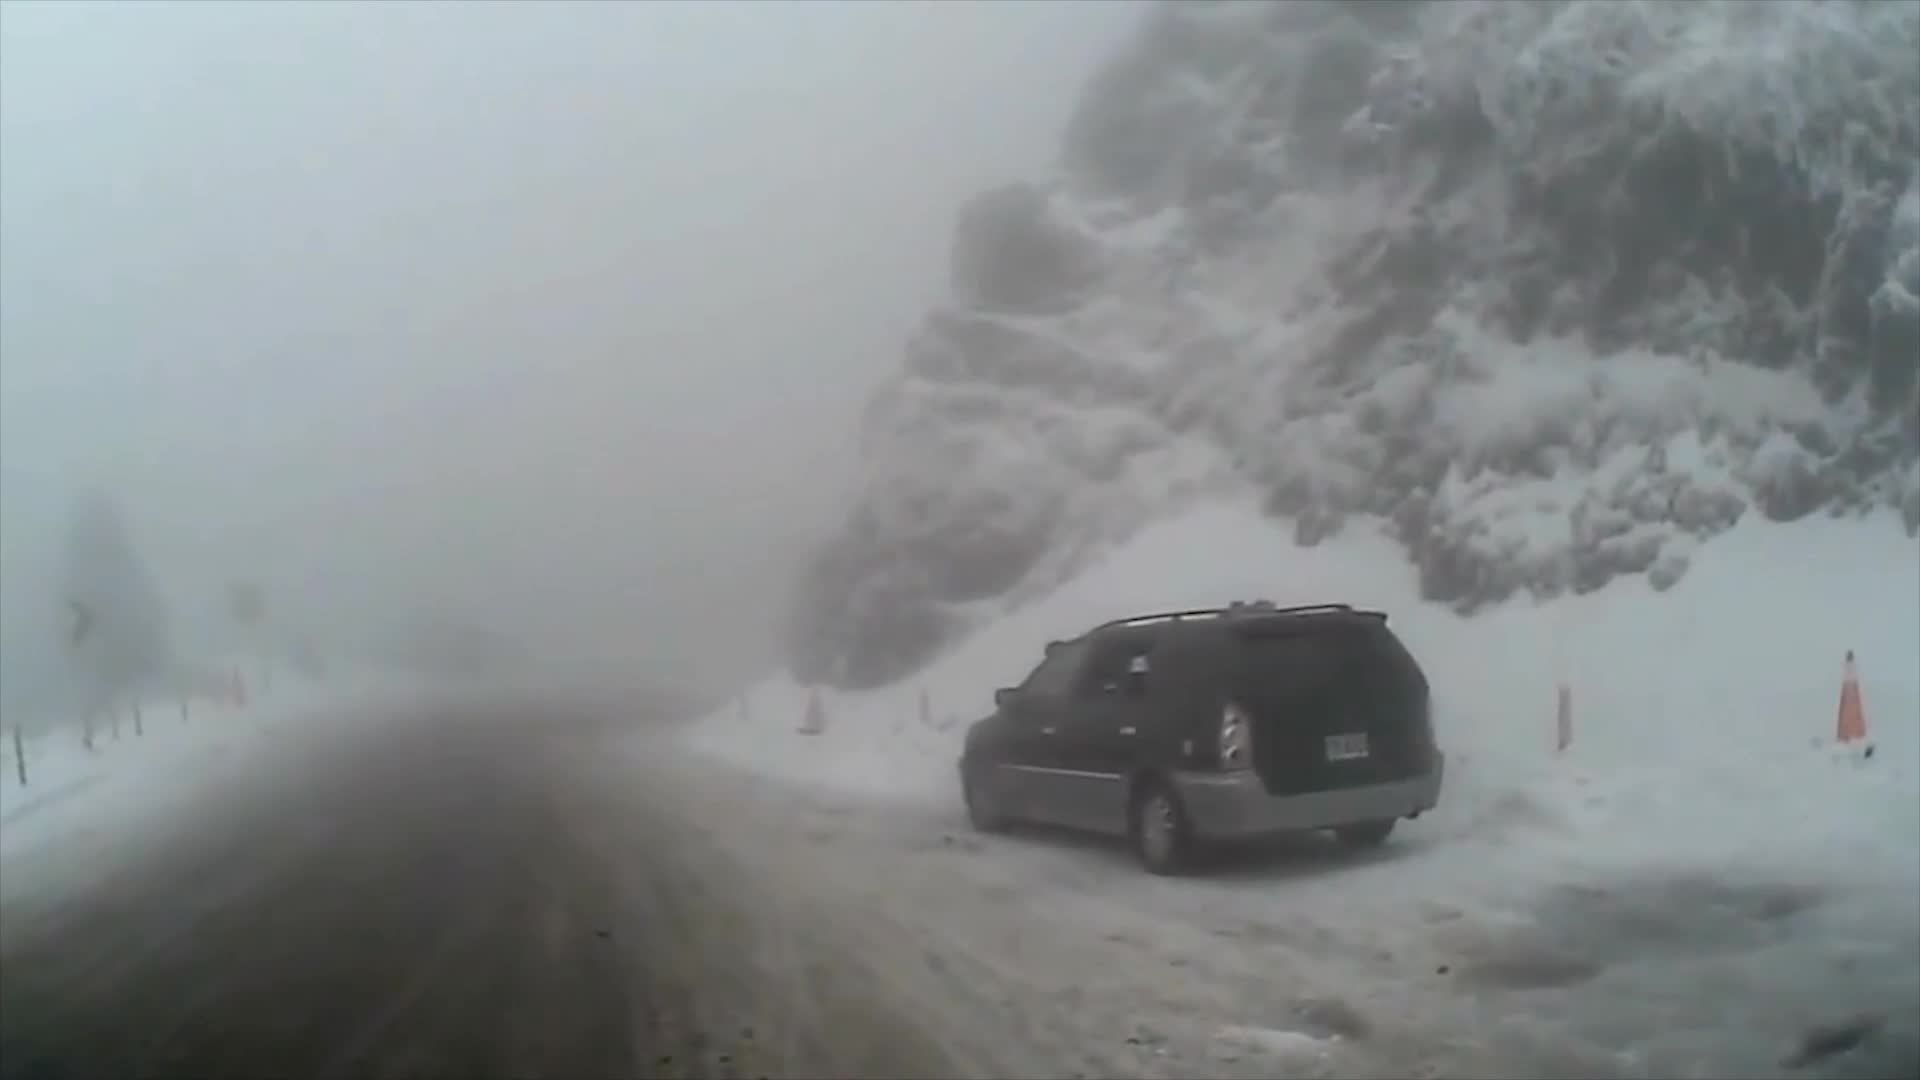vehicle: (956, 597, 1447, 873)
